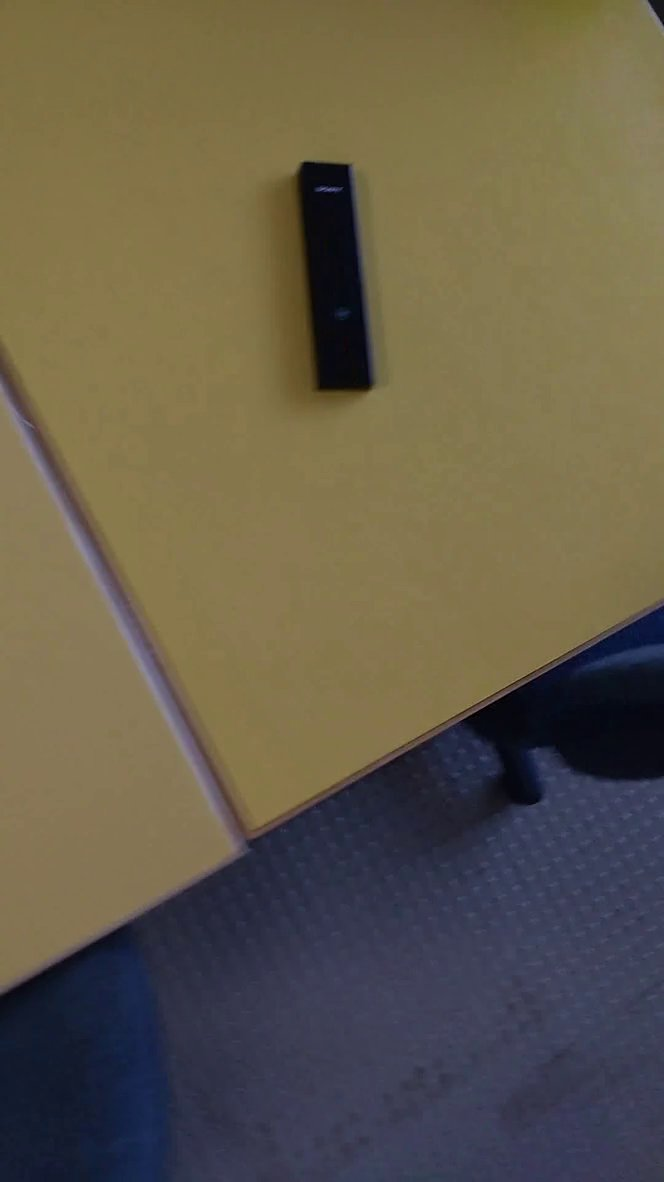remote: (292, 151, 397, 416)
